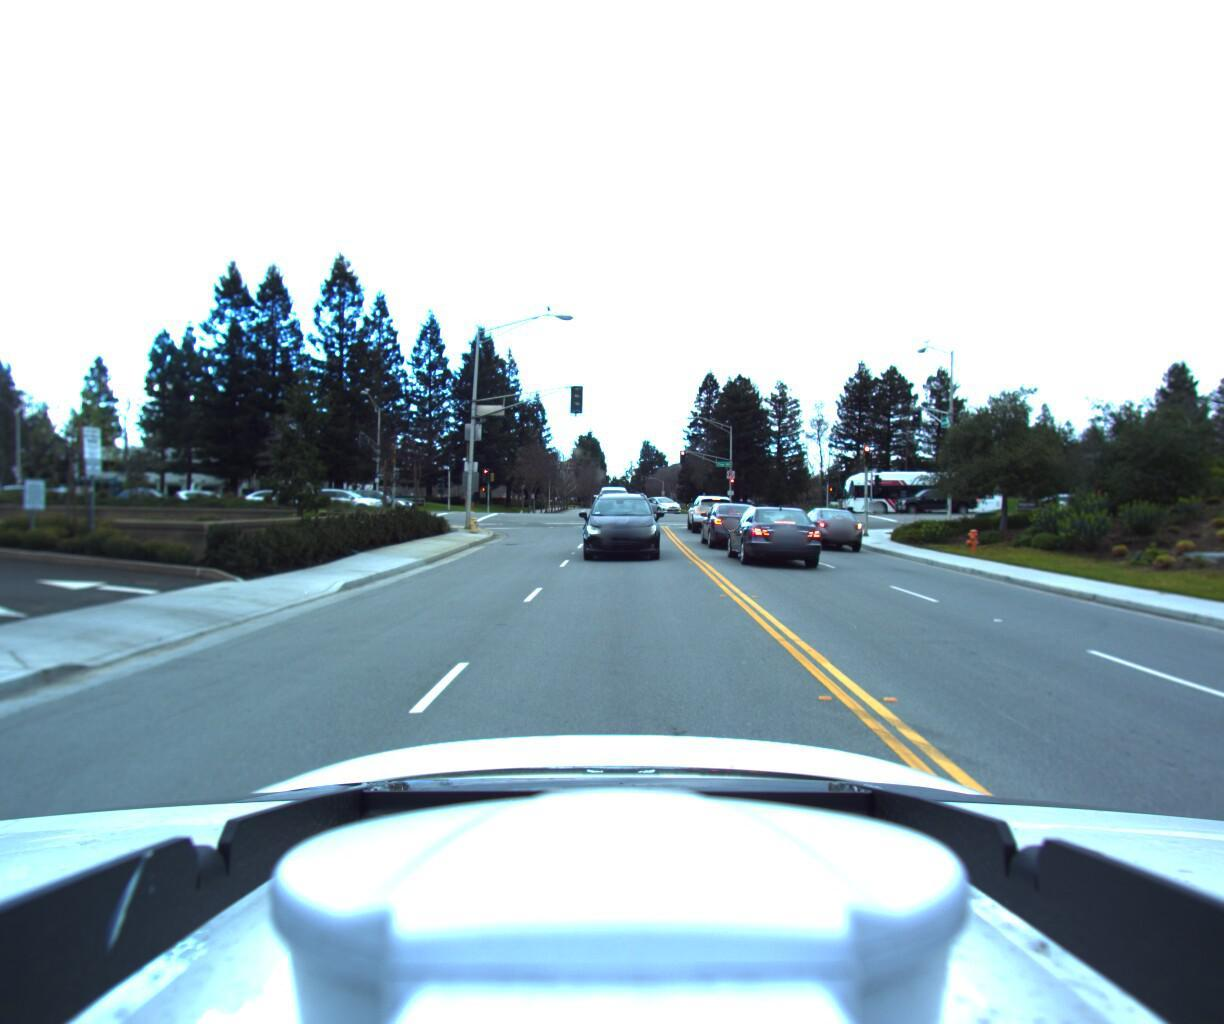bus: (825, 466, 1004, 513)
car: (720, 500, 836, 564), (576, 485, 660, 561), (698, 497, 766, 549), (798, 506, 868, 550), (290, 484, 379, 514), (891, 485, 980, 513), (680, 490, 737, 530), (334, 486, 411, 513), (229, 488, 311, 513), (638, 491, 691, 516)
